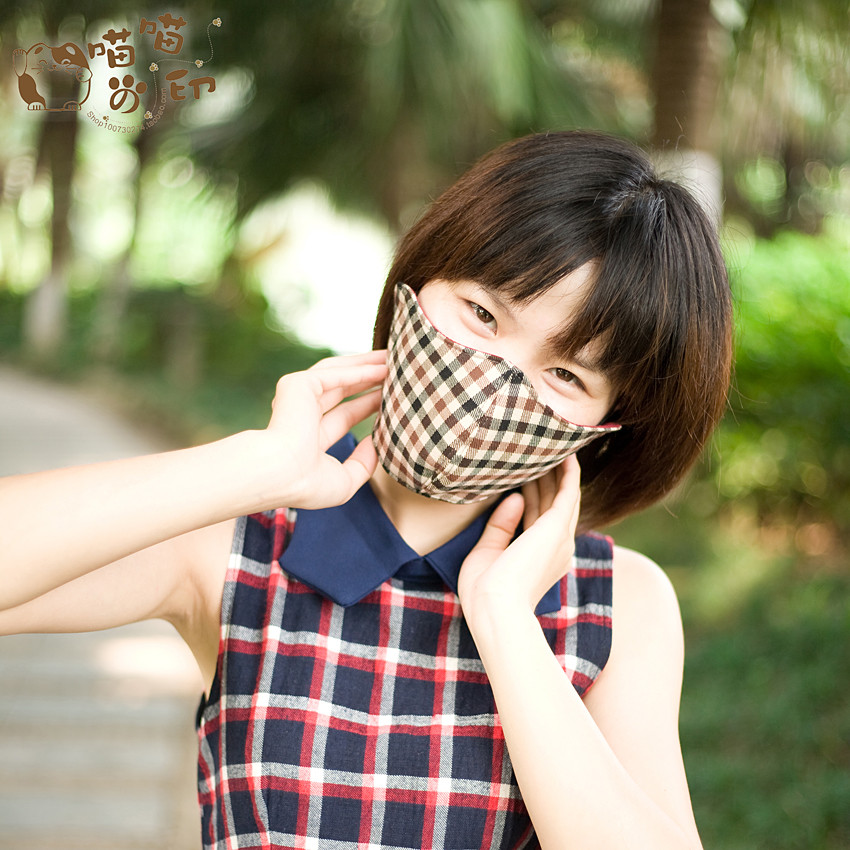face_mask: (393, 238, 612, 506)
